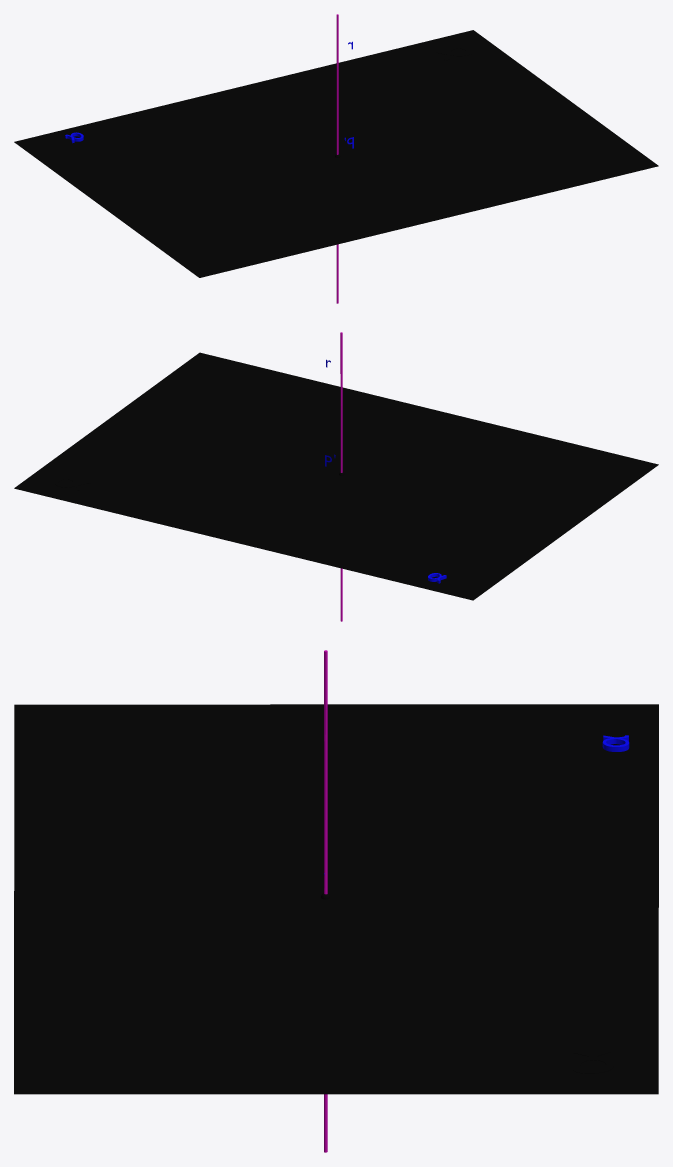
3 renders of one model, top to bottom at view 1: azimuth 30°, elevation 25°; view 2: azimuth 150°, elevation 25°; view 3: azimuth 270°, elevation 25°, orthographic. The views are drawn at different scales.
Visible parts, largest first — view 1: node_id6, node_id12; view 2: node_id6, node_id12; view 3: node_id6, node_id12.
Boxes of the visible parts, x1=… form: node_id6: x1=14, y1=30, x2=658, y2=277; node_id12: x1=336, y1=14, x2=338, y2=303; node_id6: x1=14, y1=352, x2=658, y2=600; node_id12: x1=340, y1=332, x2=342, y2=621; node_id6: x1=14, y1=704, x2=658, y2=1094; node_id12: x1=324, y1=650, x2=327, y2=1152.
Bounding box in the file's own units: 0.4302 × 0.2581 × 0.3012.
8 materials, 8 textured.
